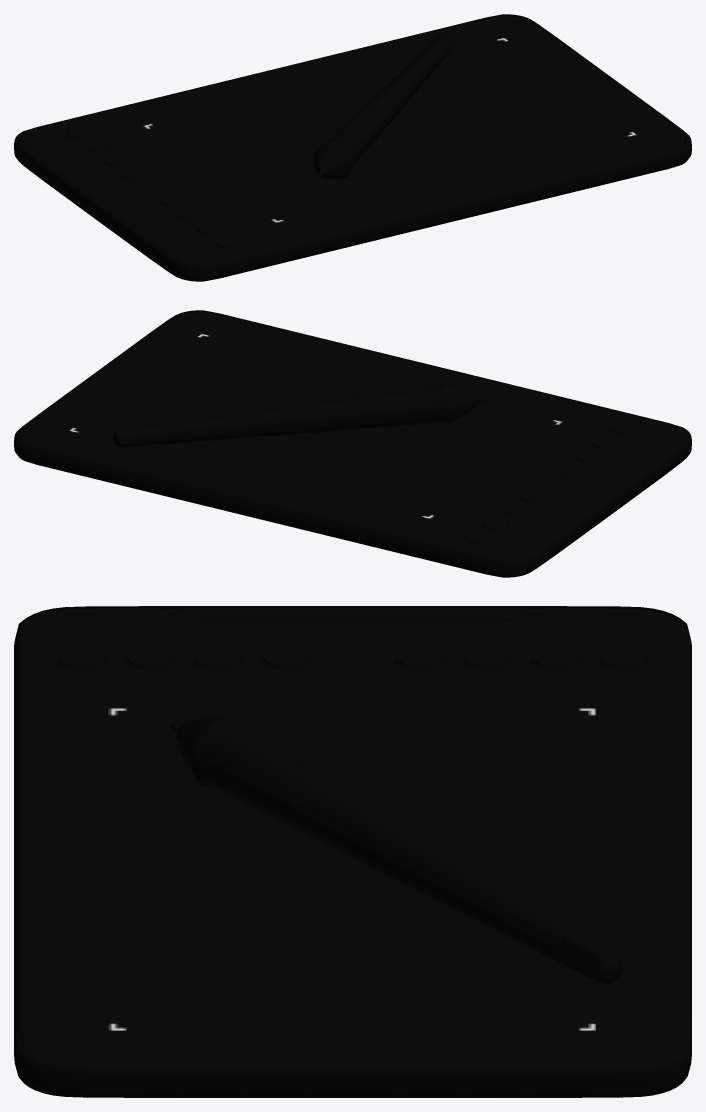
Rendered from dev-graphics-tablet.glb.
The picture shows the model from 3 angles, top to bottom: view 1: azimuth 30°, elevation 25°; view 2: azimuth 150°, elevation 25°; view 3: azimuth 270°, elevation 25°; orthographic projection. The views are drawn at different scales.
Parts seen in each view (by area): view 1: body; view 2: body; view 3: body.
Part boxes in pixels (x1,y1,x2,y2): body: [14, 14, 691, 281]; body: [14, 310, 691, 577]; body: [14, 606, 691, 1097].
Bounding box in the file's own units: 0.23 × 0.0252 × 0.1422.
1 material, 1 textured.
